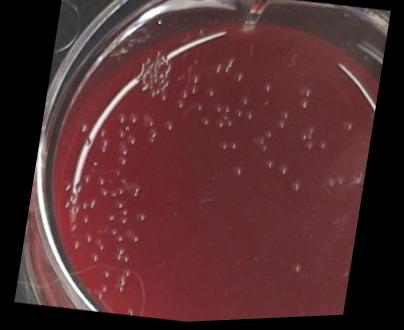pdpiscicida: (296, 126, 317, 154), (248, 137, 270, 157), (229, 164, 245, 180), (286, 181, 302, 197), (276, 108, 292, 124), (241, 110, 256, 126), (298, 88, 314, 103), (131, 210, 148, 224), (236, 95, 251, 110), (274, 164, 290, 178), (231, 106, 245, 122), (210, 62, 224, 78), (162, 119, 176, 134), (258, 82, 272, 97), (197, 116, 211, 131), (262, 158, 276, 173), (339, 121, 354, 135), (176, 87, 189, 103), (226, 140, 240, 154), (296, 100, 310, 114), (186, 73, 200, 87), (202, 88, 216, 101), (211, 119, 224, 133), (314, 140, 328, 153), (216, 141, 229, 154), (273, 122, 286, 135), (172, 99, 185, 112), (232, 73, 244, 85), (212, 104, 224, 116), (192, 103, 204, 114), (223, 119, 234, 131), (219, 113, 230, 124), (187, 86, 198, 97), (222, 105, 232, 117), (262, 131, 272, 141)
